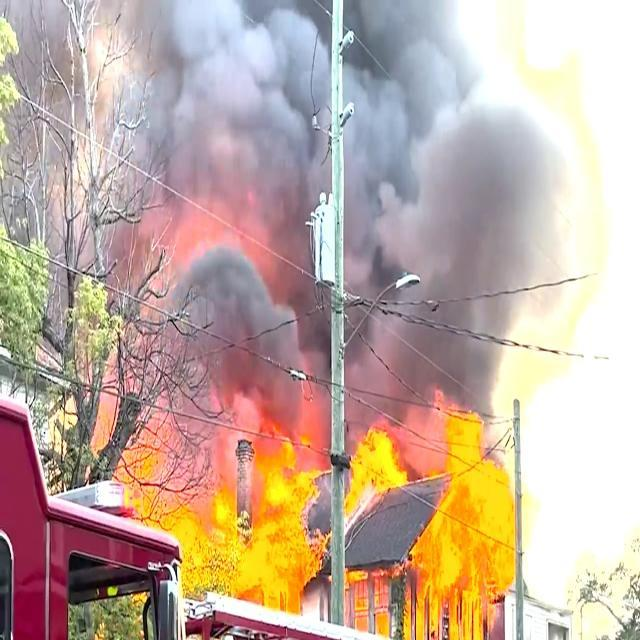Fire: (426, 415, 533, 640), (190, 445, 308, 617), (340, 404, 390, 508)
Smoke: (158, 26, 572, 377)
